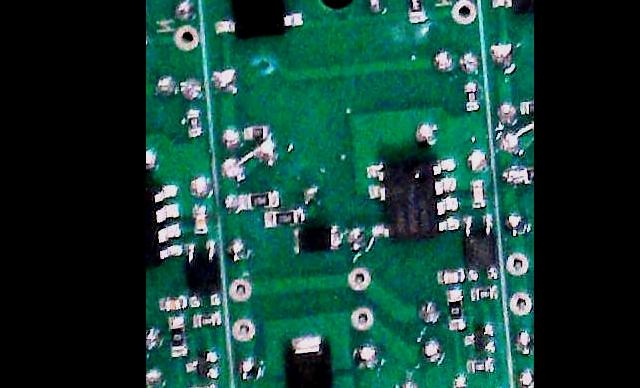chip-capacitor: (191, 203, 209, 237), (470, 178, 489, 208), (436, 269, 467, 285), (158, 295, 186, 311)
chip-resistor: (445, 286, 467, 332), (167, 316, 188, 354), (237, 190, 280, 208), (265, 208, 303, 225), (462, 80, 481, 113), (405, 0, 428, 24), (185, 108, 203, 138), (244, 124, 272, 143), (468, 285, 500, 301), (191, 311, 223, 327), (465, 358, 496, 374), (452, 374, 469, 388), (188, 384, 219, 388)
diode: (283, 334, 337, 388), (292, 226, 344, 254)
ic: (366, 155, 462, 240), (210, 0, 307, 39), (462, 213, 502, 282), (184, 240, 223, 308)
transistor: (184, 347, 221, 380), (462, 322, 498, 355)
